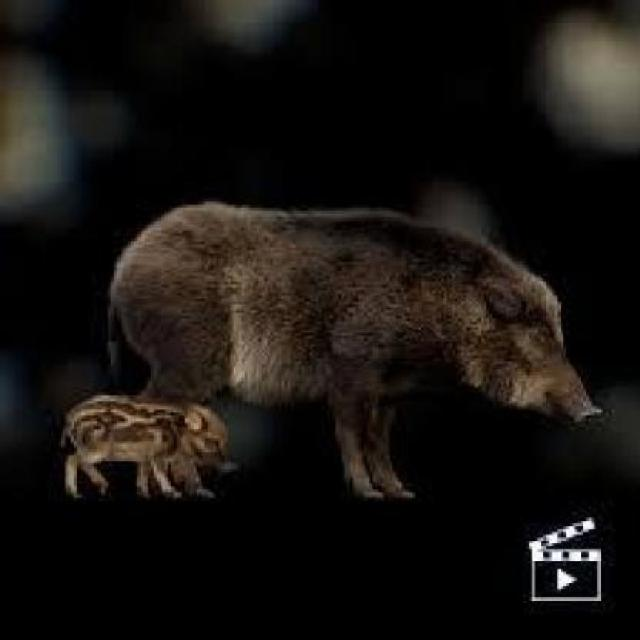wildboar: (89, 185, 612, 524), (42, 387, 248, 511)
